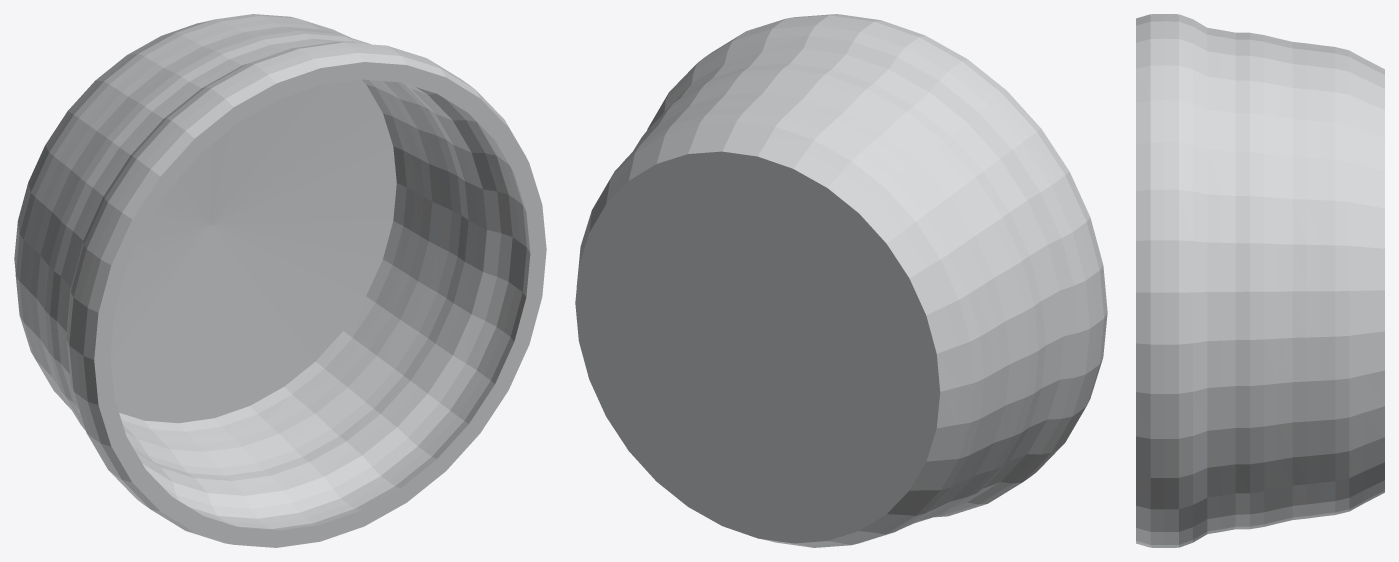
The picture shows the model from 3 angles, left to right: view 1: azimuth 30°, elevation 25°; view 2: azimuth 150°, elevation 25°; view 3: azimuth 270°, elevation 25°; orthographic projection.
Size of the model in its own units: 0.1129 by 0.1129 by 0.0525.
1 material, 1 textured.
